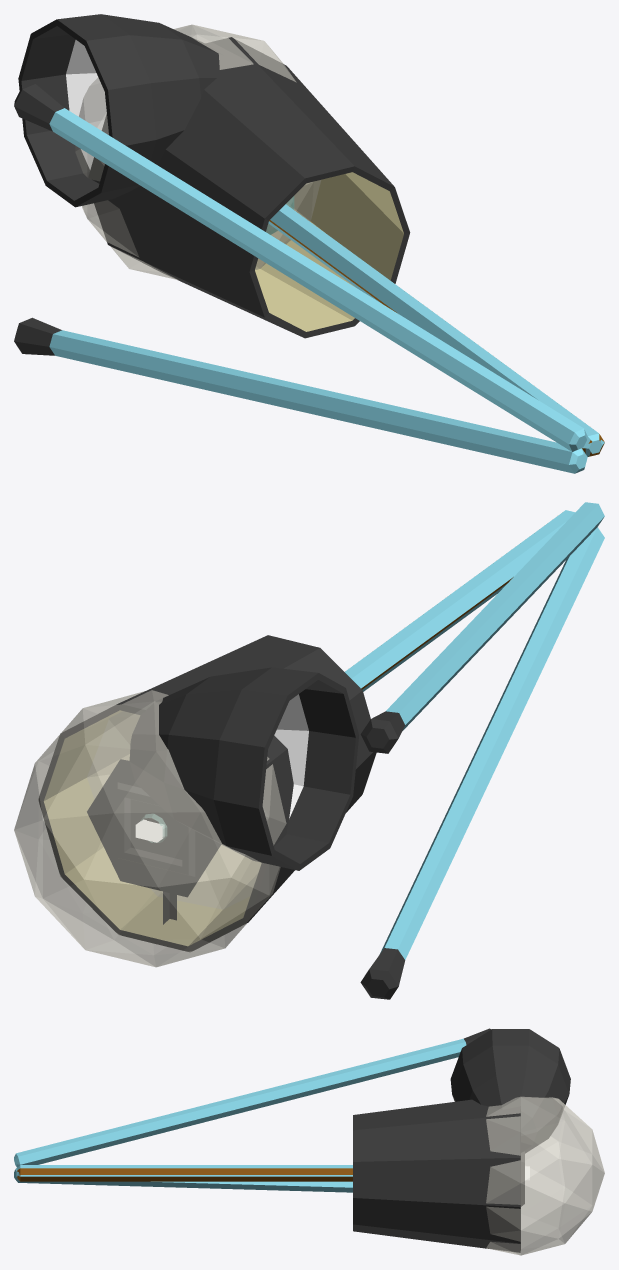
File: asset-lights-b34bbc.glb
The picture shows the model from 3 angles, top to bottom: view 1: azimuth 30°, elevation 25°; view 2: azimuth 150°, elevation 25°; view 3: azimuth 270°, elevation 25°; orthographic projection. The views are drawn at different scales.
Parts seen in each view (by area): view 1: PropMesh; view 2: PropMesh; view 3: PropMesh.
Part boxes in pixels (x1,y1,x2,y2): PropMesh: [14, 14, 604, 473]; PropMesh: [14, 502, 604, 999]; PropMesh: [14, 1028, 604, 1255].
Size of the model in its own units: 2.48 by 2.2 by 6.31.
